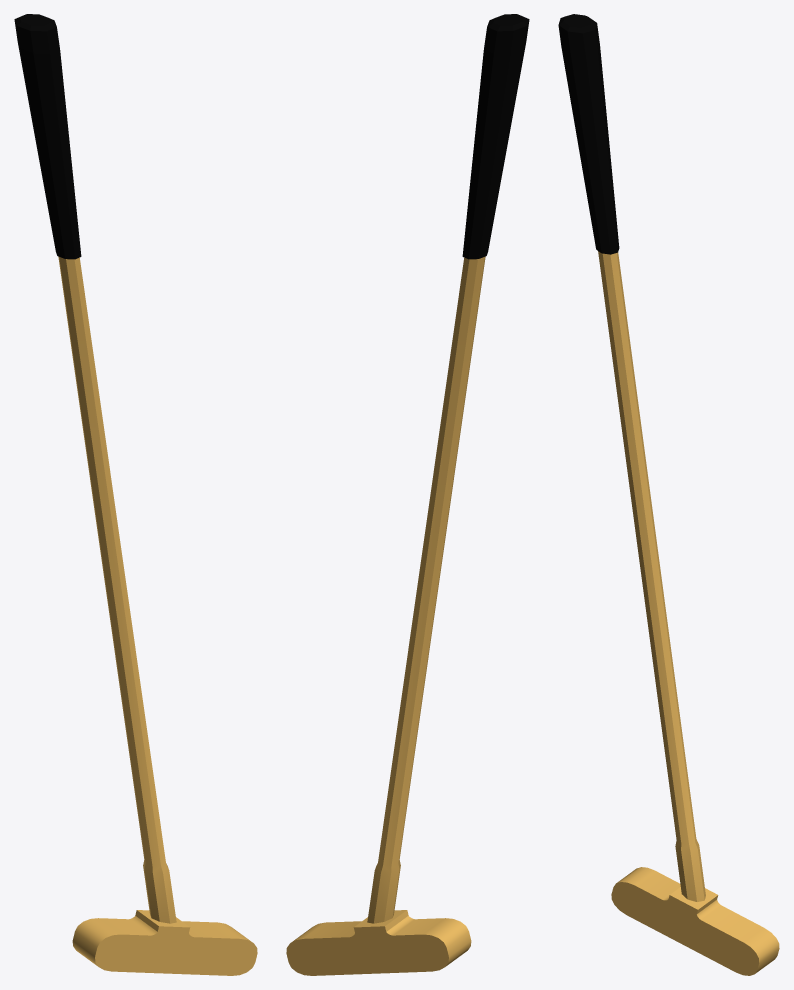
The model's file is Golden Club.glb.
The picture shows the model from 3 angles, left to right: view 1: azimuth 30°, elevation 25°; view 2: azimuth 150°, elevation 25°; view 3: azimuth 330°, elevation 25°; orthographic projection. The views are drawn at different scales.
Parts seen in each view (by area): view 1: Golden Club.001; view 2: Golden Club.001; view 3: Golden Club.001.
Boxes of the visible parts, x1,y1,x2,y2 form: Golden Club.001: (14, 14, 257, 975); Golden Club.001: (286, 14, 529, 975); Golden Club.001: (558, 14, 779, 975).
Bounding box in the file's own units: 0.2285 × 0.9469 × 0.0385.
